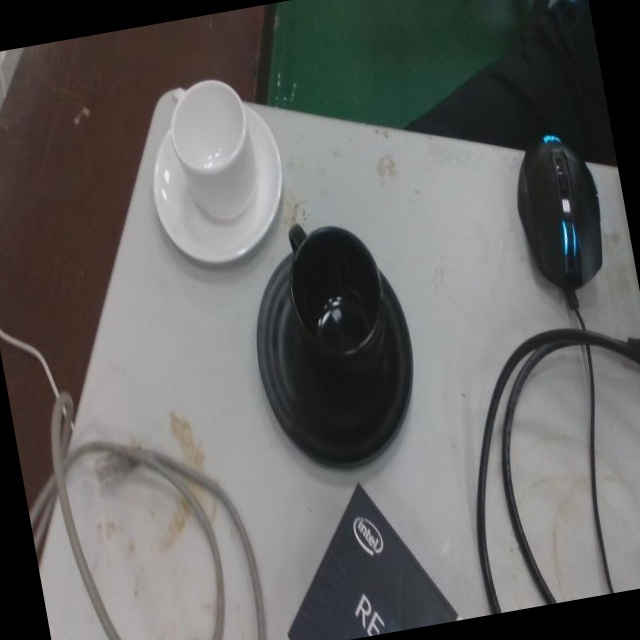black: (254, 215, 413, 476)
white: (149, 76, 284, 268)
